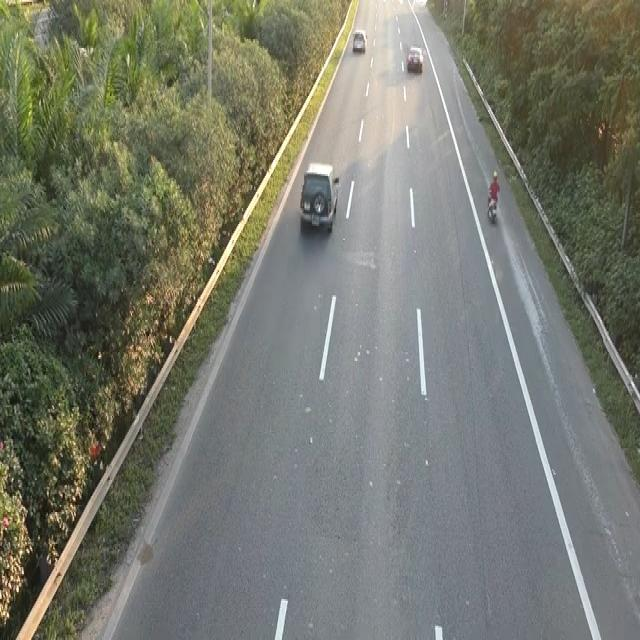car: (297, 158, 342, 238)
minibus: (486, 192, 498, 224)
